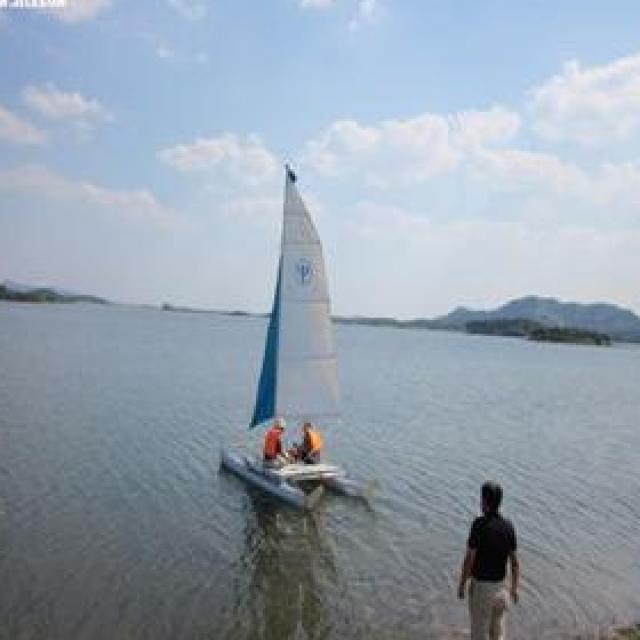sailboat: (143, 133, 373, 509)
